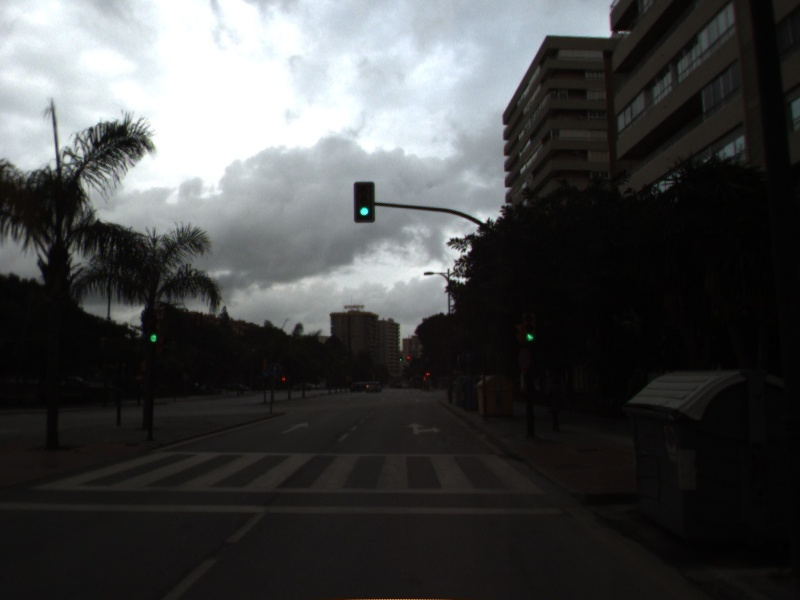STRAIGHT: (278, 420, 311, 436)
STRAIGHT_RIGHT: (403, 420, 443, 437)
